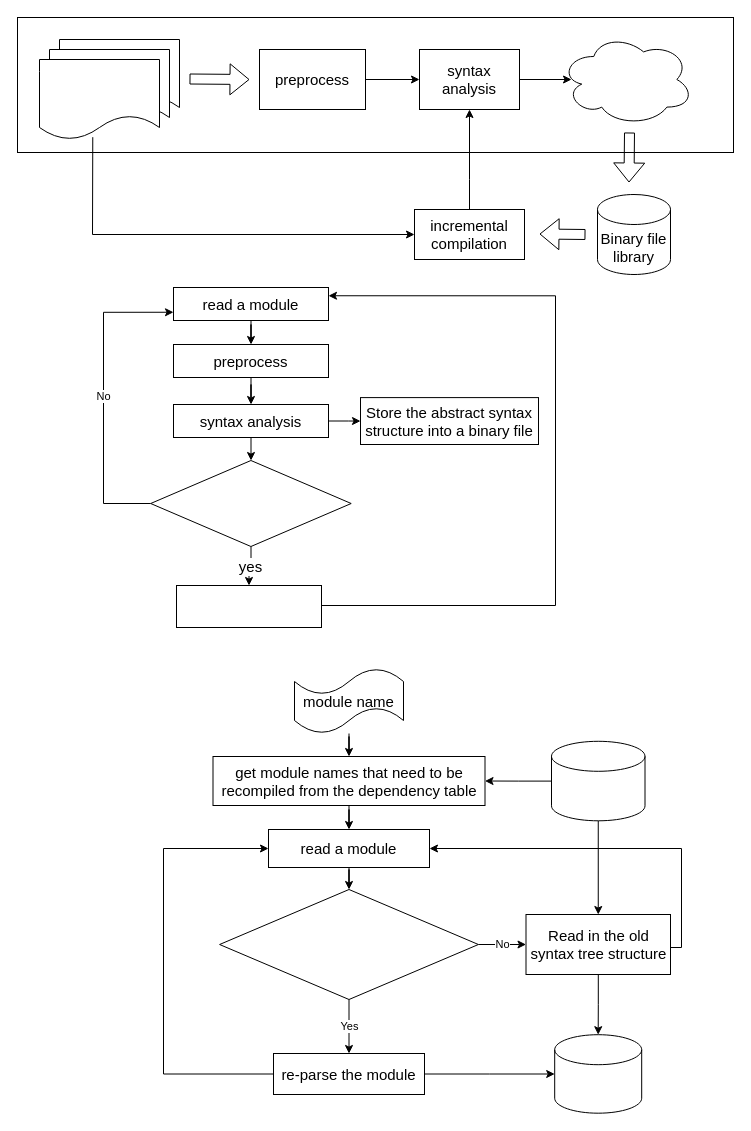
This 751x1131 diagram has some shape labels left out. The centre of each missing label's shape, as x and y in pixels:
Abstract syntax tree: point (627, 79)
if the module name is in the list of module names to be recompiled: point (348, 944)
if there are dependencies between modules: point (250, 503)
new binary library: point (598, 1073)
old binary library: point (597, 780)
Store into the dependency table: point (249, 606)
Verilog HDL code: point (99, 99)
